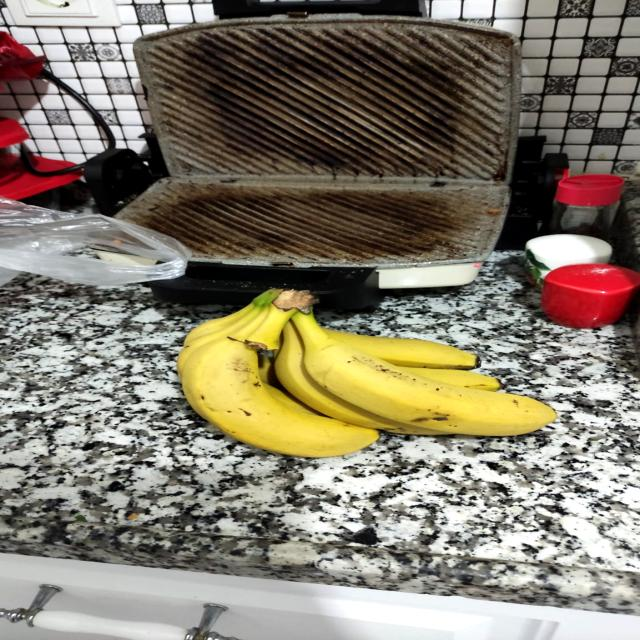banana: (152, 272, 577, 467), (281, 298, 572, 446)
